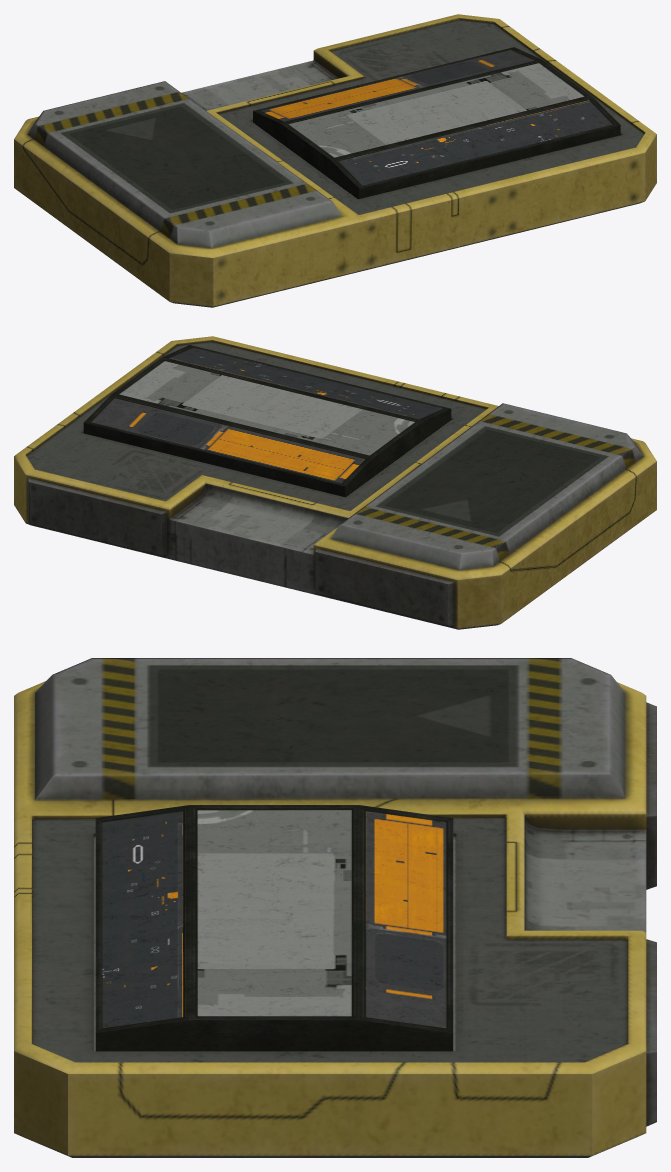
The model's file is KDK_KeyPassSystem.fbx.
The picture shows the model from 3 angles, top to bottom: view 1: azimuth 30°, elevation 25°; view 2: azimuth 150°, elevation 25°; view 3: azimuth 270°, elevation 25°; orthographic projection. The views are drawn at different scales.
Parts seen in each view (by area): view 1: KDK_KeyPassSystem_Base, KDK_KeyPassSystem_HoloProjector; view 2: KDK_KeyPassSystem_Base, KDK_KeyPassSystem_HoloProjector; view 3: KDK_KeyPassSystem_Base, KDK_KeyPassSystem_HoloProjector.
Part boxes in pixels (bbox=[...]): KDK_KeyPassSystem_Base: bbox=[14, 14, 656, 307]; KDK_KeyPassSystem_HoloProjector: bbox=[253, 47, 620, 199]; KDK_KeyPassSystem_Base: bbox=[14, 336, 656, 629]; KDK_KeyPassSystem_HoloProjector: bbox=[83, 345, 451, 497]; KDK_KeyPassSystem_Base: bbox=[14, 658, 656, 1157]; KDK_KeyPassSystem_HoloProjector: bbox=[95, 805, 453, 1051].
Size of the model in its own units: 150 by 22.81 by 102.
